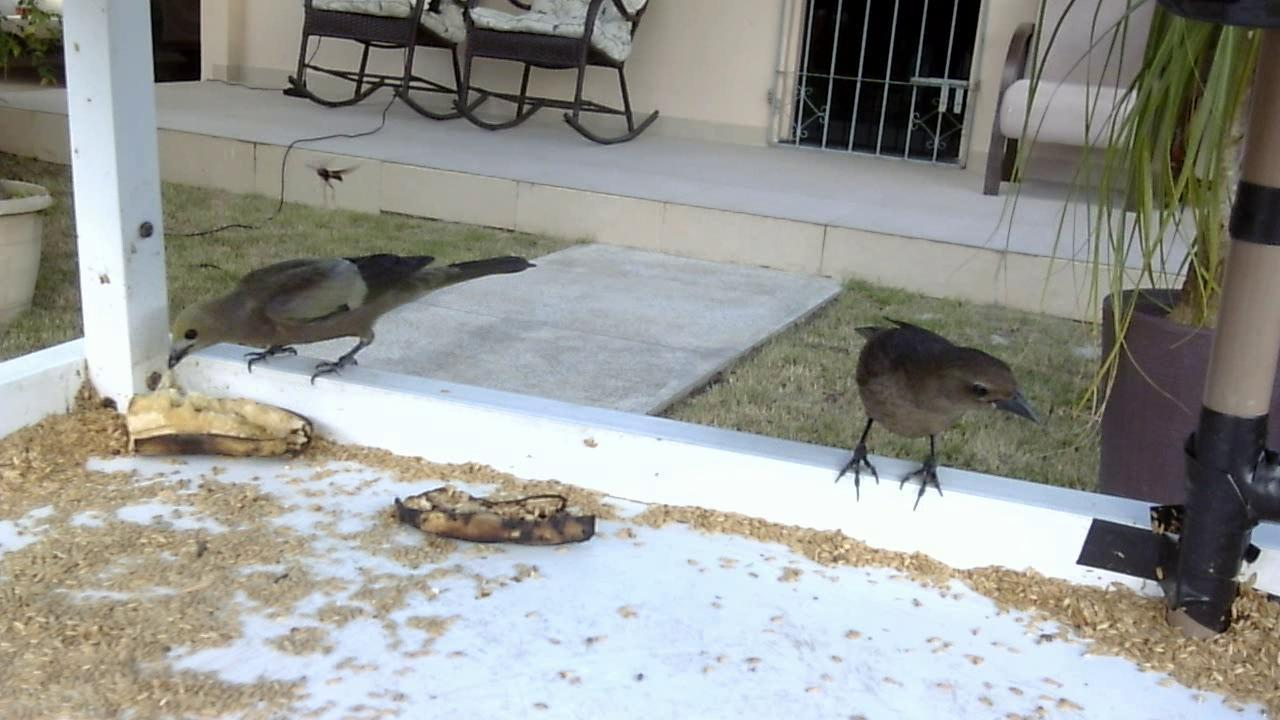chupim: (818, 311, 1049, 526)
sanhaco_do_coqueiro: (171, 239, 540, 397)
